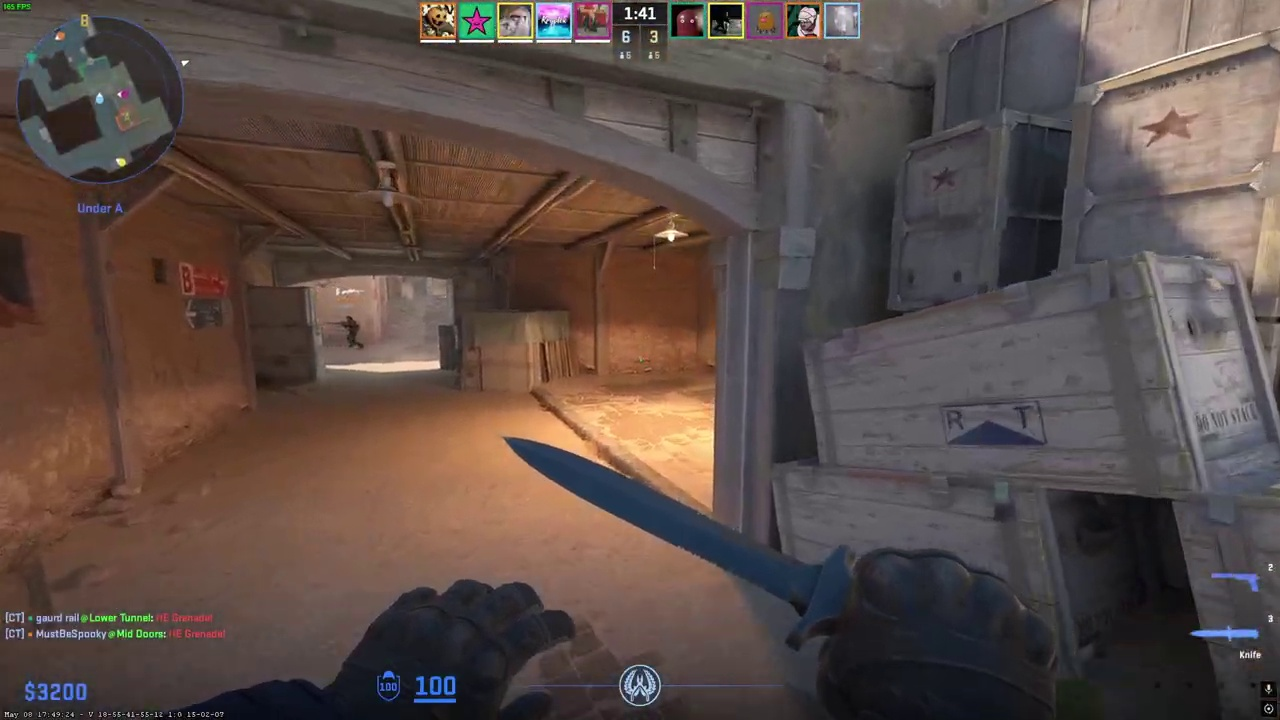CT: (344, 315, 362, 349)
